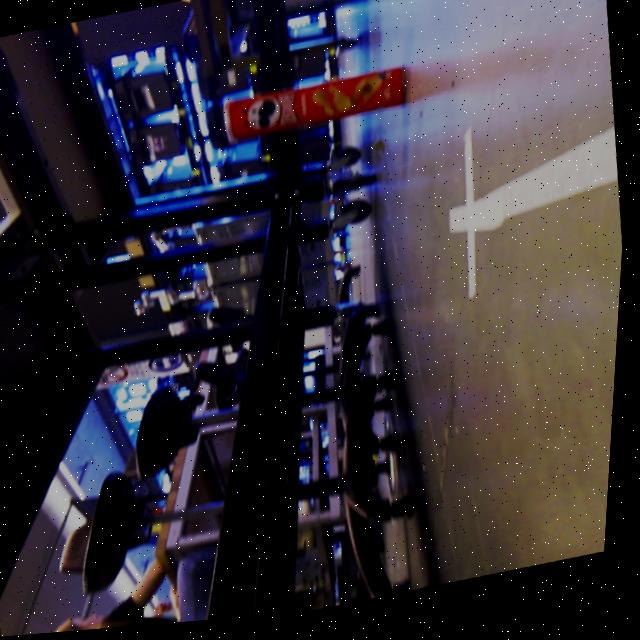redpringles: (200, 53, 441, 169)
